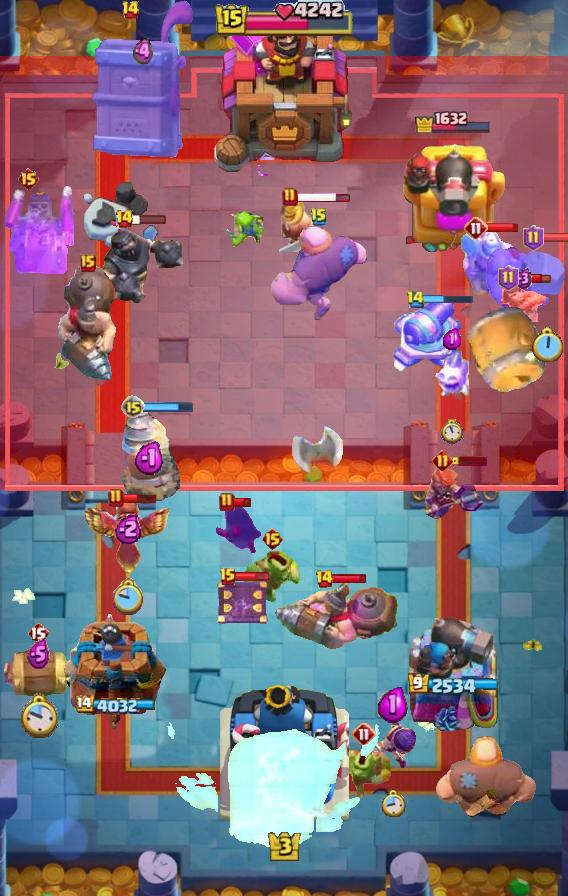archer-queen: (480, 243, 568, 319)
balloon: (268, 224, 370, 324), (433, 734, 539, 824)
bandit: (459, 227, 521, 297)
clock: (213, 0, 355, 40)
dart-goblin: (91, 1, 195, 160)
dirt: (465, 303, 549, 397)
electro-spirit: (378, 685, 408, 723), (134, 441, 166, 476), (115, 513, 143, 544), (26, 639, 49, 669), (133, 37, 153, 67), (443, 328, 461, 350), (516, 267, 532, 289)
elixir: (18, 693, 57, 739), (532, 327, 565, 365), (113, 578, 145, 615), (382, 789, 406, 817), (441, 420, 463, 445)
emote: (297, 191, 352, 204), (422, 293, 474, 305), (142, 401, 194, 413), (131, 213, 167, 225), (517, 272, 552, 284), (331, 572, 368, 583), (122, 493, 158, 504), (234, 570, 270, 581), (485, 222, 519, 233), (451, 456, 487, 466), (540, 232, 567, 244), (232, 497, 251, 508)
flying-machine: (334, 745, 394, 799), (244, 551, 300, 605)
goblin-ball: (369, 717, 417, 771)
goblin-giant: (280, 196, 320, 252)
golden-knight: (83, 500, 175, 576)
ice-spirit-evolution-symbol: (215, 577, 269, 627)
king-tower: (211, 7, 357, 181), (219, 678, 349, 826)
magic-archer: (120, 410, 180, 502)
mega-knight: (163, 708, 380, 854)
mirror: (432, 348, 472, 400)
queen-tower: (62, 613, 166, 731)
royal-giant: (291, 407, 345, 475)
royal-guardian: (97, 218, 185, 306)
royal-recruit: (389, 295, 465, 379)
selected: (408, 673, 501, 697), (414, 108, 494, 133), (73, 695, 155, 716)
skeleton-dragon: (498, 276, 550, 328)
skeleton-king-bar: (0, 186, 74, 274)
tesla: (214, 502, 262, 558)
tesla-evolution: (422, 464, 486, 522)
text: (464, 216, 488, 240), (121, 395, 145, 419), (352, 722, 376, 746), (17, 167, 40, 191), (260, 527, 283, 551), (524, 225, 545, 251), (497, 265, 518, 291), (27, 621, 49, 645), (431, 449, 453, 471), (114, 209, 134, 229), (120, 0, 139, 20), (315, 569, 334, 589), (406, 290, 425, 309), (310, 207, 328, 227), (219, 567, 237, 587), (282, 187, 298, 207), (108, 488, 124, 508), (219, 492, 235, 512), (80, 254, 96, 272)
the-log: (0, 650, 76, 700)
tower-bar: (399, 138, 507, 256), (407, 611, 499, 731)
wizard: (274, 578, 400, 652), (56, 265, 120, 383)
zap: (223, 211, 265, 253)
